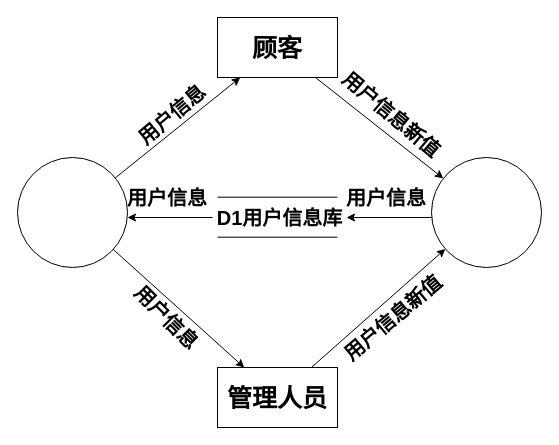
Some shapes in this 559 by 445 pixel diagram are drawn without their labels. Here are the shapes that lost their labels. From the top down, the centre of each, then its label:
pixel 72 212: 2.1查询用户信息
pixel 486 212: 2.2修改用户信息
